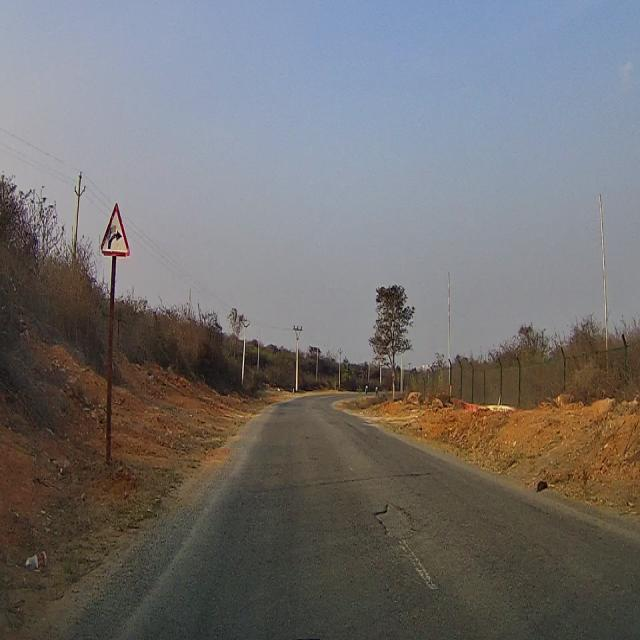right-hand-curve: (99, 202, 131, 269)
